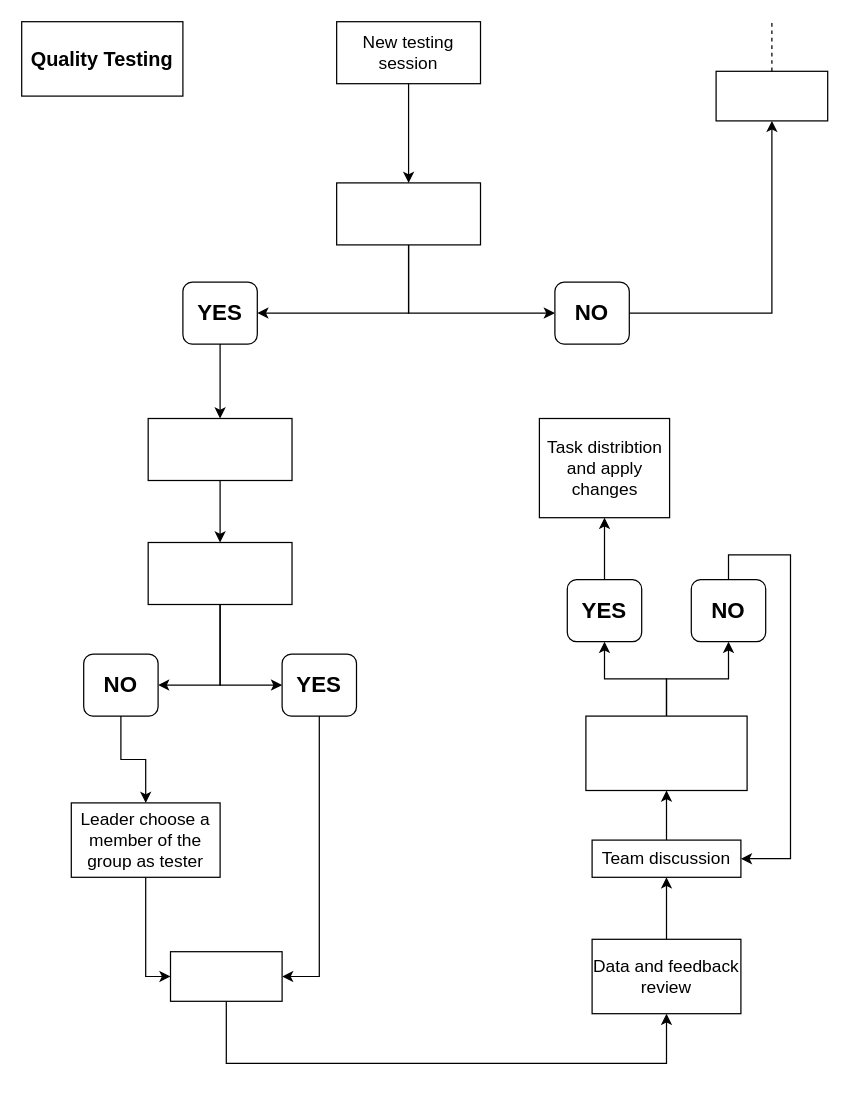
Some shapes in this 849 by 1095 pixel diagram are drawn without their labels. Each missing label, with the box of its shape:
Election of external testers: (147, 417, 292, 480)
Internal QA Test: (715, 70, 828, 121)
Mutual agreement in issues and improvements?: (585, 715, 747, 790)
One week for an external milestone?: (335, 182, 480, 245)
Quality Test: (169, 950, 282, 1001)
Tester elected?: (147, 541, 292, 604)
